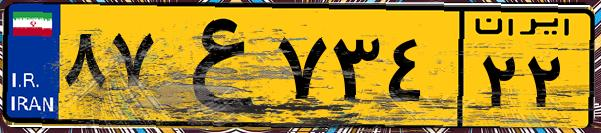2: (475, 38, 525, 113), (525, 38, 570, 115)
3: (330, 28, 385, 110)
4: (385, 28, 445, 110)
7: (270, 28, 330, 110), (110, 28, 158, 98)
8: (57, 26, 110, 100)
ع: (158, 12, 270, 120)
